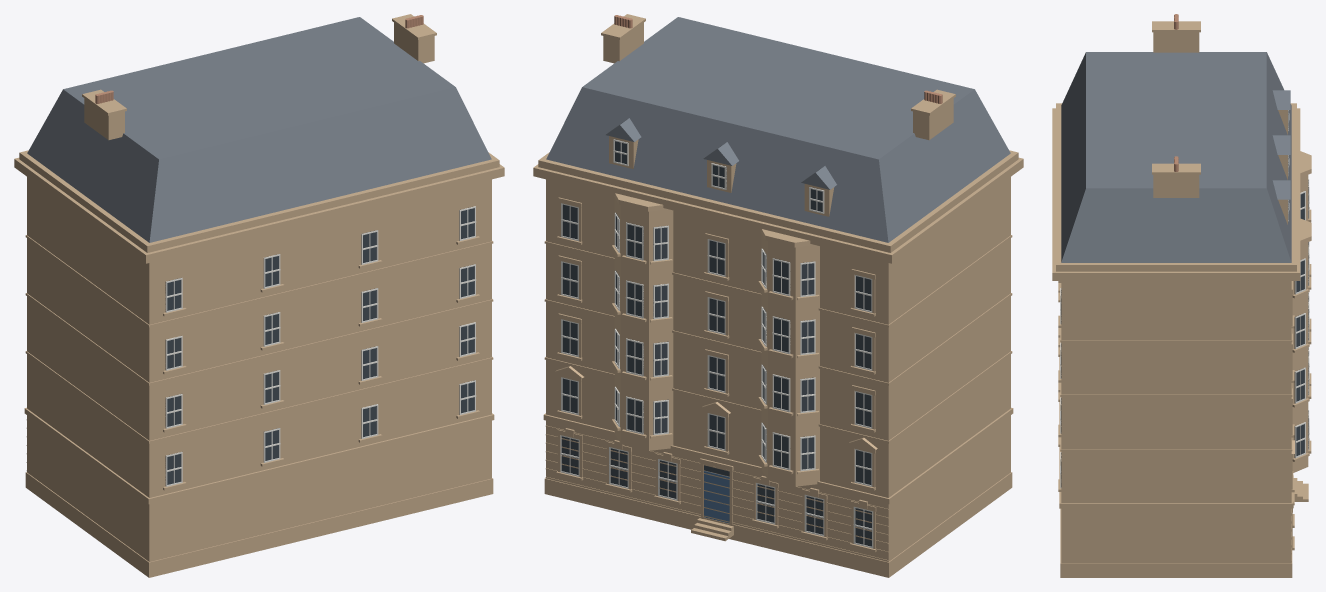
File: classical5_bays.glb
3 views of the same model, side by side, from view 1: azimuth 30°, elevation 25°; view 2: azimuth 150°, elevation 25°; view 3: azimuth 270°, elevation 25° (orthographic). The views are drawn at different scales.
Parts seen in each view (by area): view 1: classical5_bays; view 2: classical5_bays; view 3: classical5_bays.
Boxes of the visible parts, x1=… form: classical5_bays: x1=14, y1=14, x2=504, y2=577; classical5_bays: x1=533, y1=14, x2=1023, y2=577; classical5_bays: x1=1052, y1=14, x2=1311, y2=577.
Size of the model in its own units: 22 by 25.52 by 14.63.
